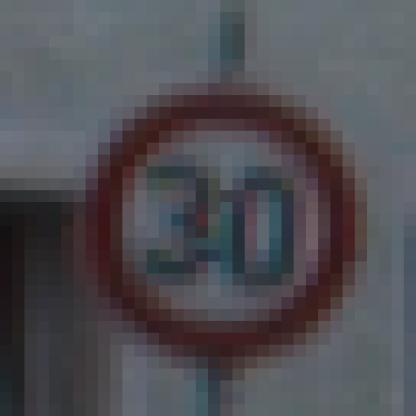Speed Limit -30-: (114, 68, 340, 335)
